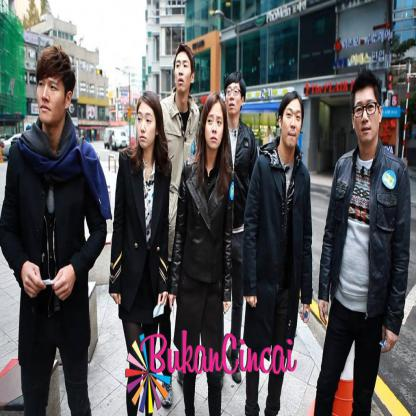face: (37, 70, 66, 122), (355, 88, 380, 141), (283, 102, 304, 147), (206, 103, 225, 148), (138, 103, 156, 147), (175, 52, 191, 93), (227, 85, 241, 114)
